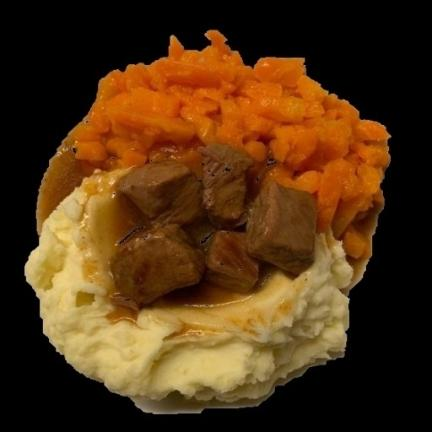carrot: (61, 30, 390, 264)
meat: (110, 144, 317, 308)
potato: (25, 171, 354, 413)
